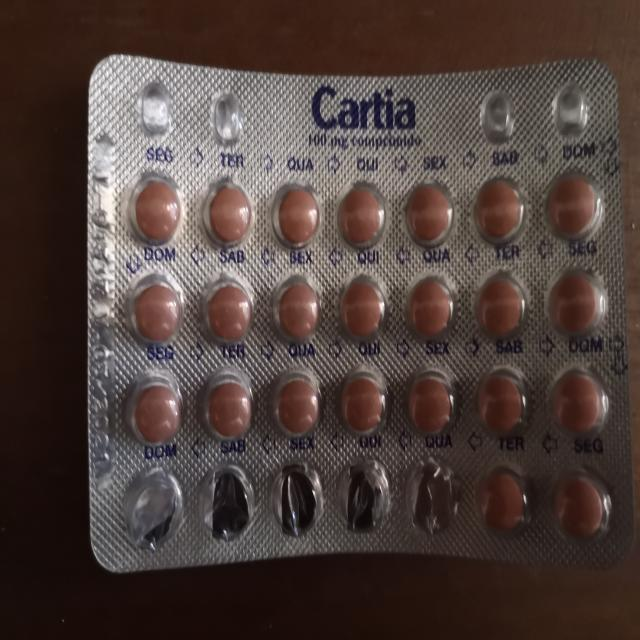Empty: (116, 464, 186, 548), (193, 458, 261, 542), (399, 452, 464, 538), (332, 451, 394, 536), (264, 458, 326, 537)
Pill: (540, 262, 613, 343), (121, 166, 187, 254), (120, 366, 186, 452), (543, 365, 612, 446), (198, 169, 262, 255), (470, 262, 532, 350), (538, 169, 607, 247), (468, 166, 530, 252), (270, 168, 328, 258), (401, 169, 461, 255), (472, 460, 534, 543), (548, 469, 613, 548), (469, 364, 533, 444), (195, 367, 260, 445), (124, 269, 186, 348), (267, 362, 326, 444), (334, 169, 390, 254), (197, 270, 257, 348), (402, 366, 464, 439), (332, 270, 391, 345), (266, 272, 325, 347), (400, 271, 458, 346), (335, 364, 392, 438)
